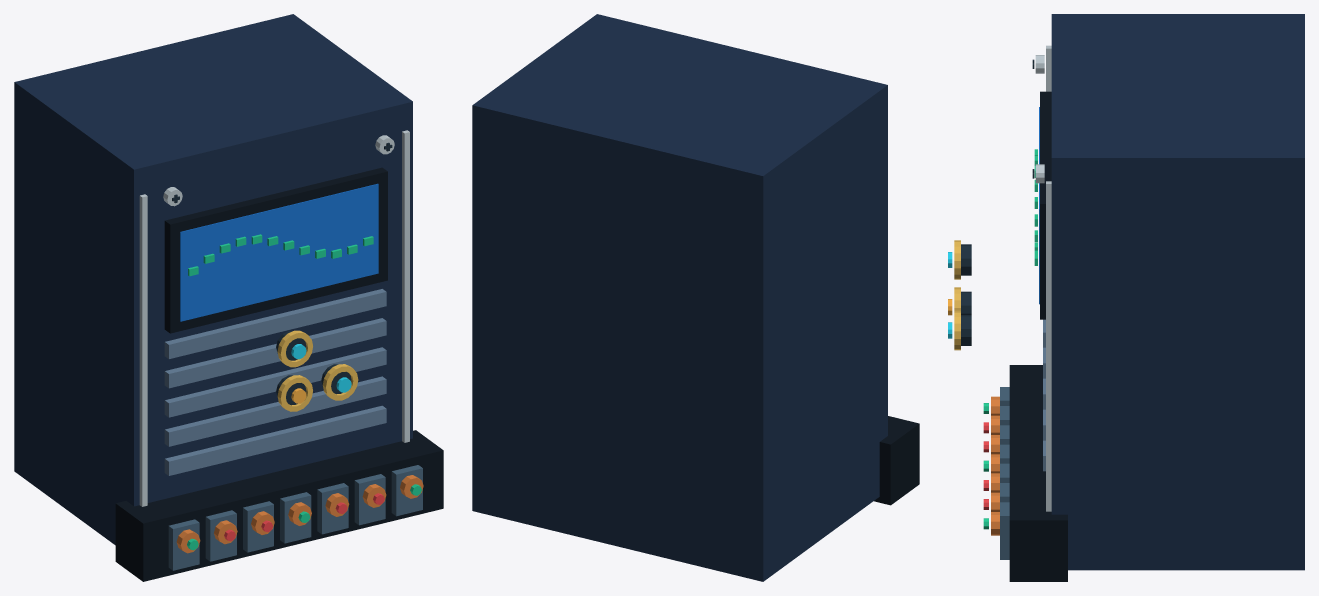
File: 45_L83_BatteryPrechargeResistorModule.fbx
The picture shows the model from 3 angles, left to right: view 1: azimuth 30°, elevation 25°; view 2: azimuth 150°, elevation 25°; view 3: azimuth 270°, elevation 25°; orthographic projection. The views are drawn at different scales.
Parts seen in each view (by area): view 1: BatteryPrechargeResistorModule; view 2: BatteryPrechargeResistorModule; view 3: BatteryPrechargeResistorModule.
Part boxes in pixels (x1=…): BatteryPrechargeResistorModule: x1=14, y1=14, x2=443, y2=581; BatteryPrechargeResistorModule: x1=472, y1=14, x2=919, y2=581; BatteryPrechargeResistorModule: x1=948, y1=14, x2=1304, y2=581.
Bounding box in the file's own units: 113 × 142 × 110.
